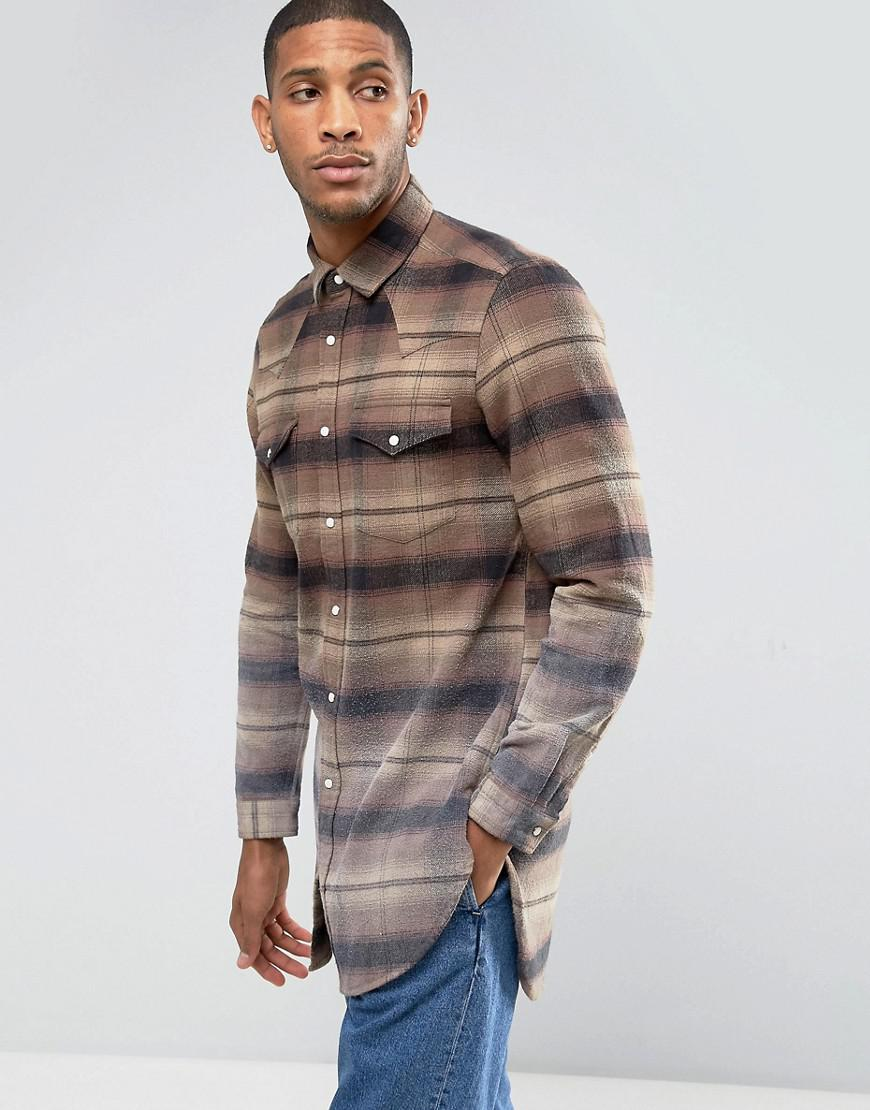teeshirt: (186, 218, 679, 979)
